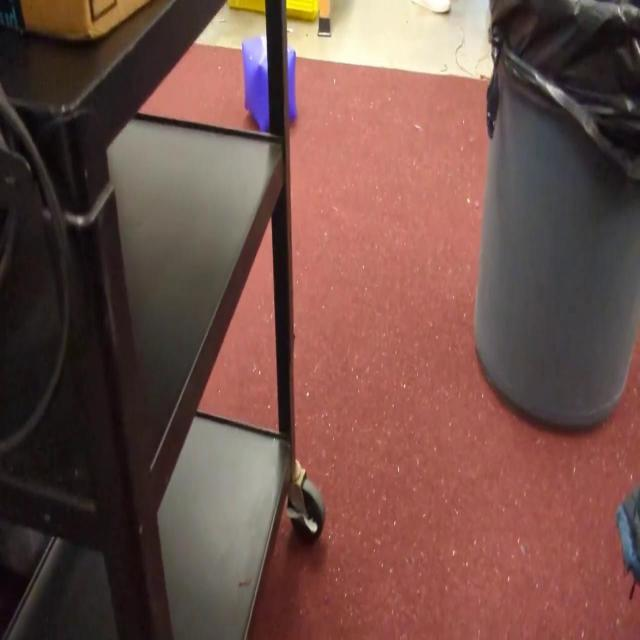frc_cube: (243, 34, 295, 130)
